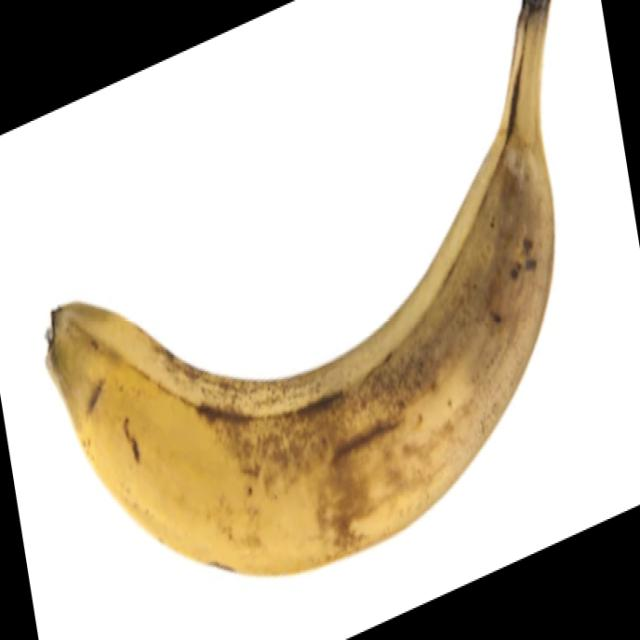overripe: (40, 14, 557, 580)
